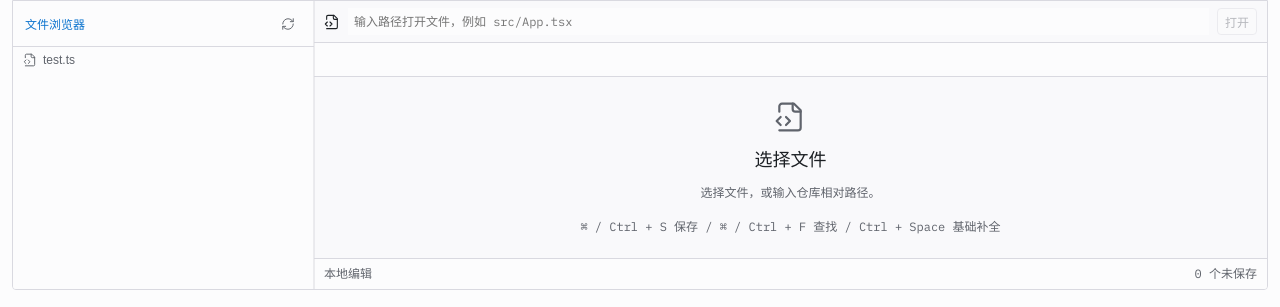
Test case: falls back to binary preview without creating a writable or dirty buffer
The width and height of the screenshot is (1280, 307).
Click the button "test.ts".
click(59, 60)  # box [13,47,314,73]
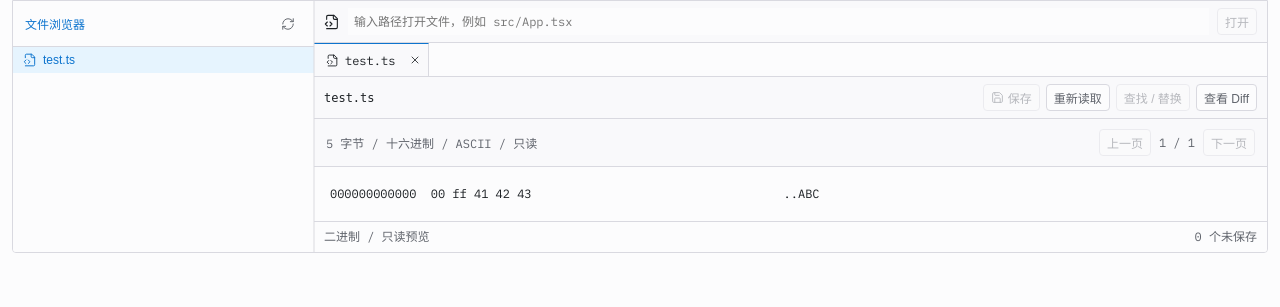
Expected: the button "保存" is disabled, [983,84,1040,111]
Result: the element named "二进制只读预览" is shown at [314,119,1267,221]
